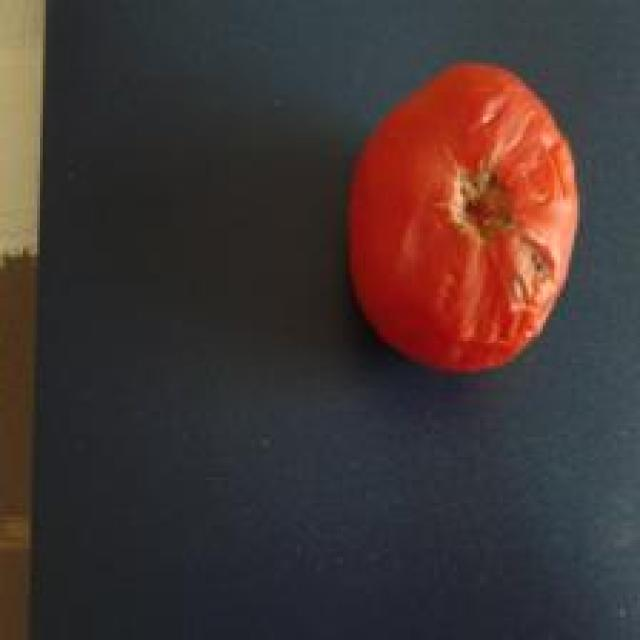overripe: (344, 62, 586, 377)
